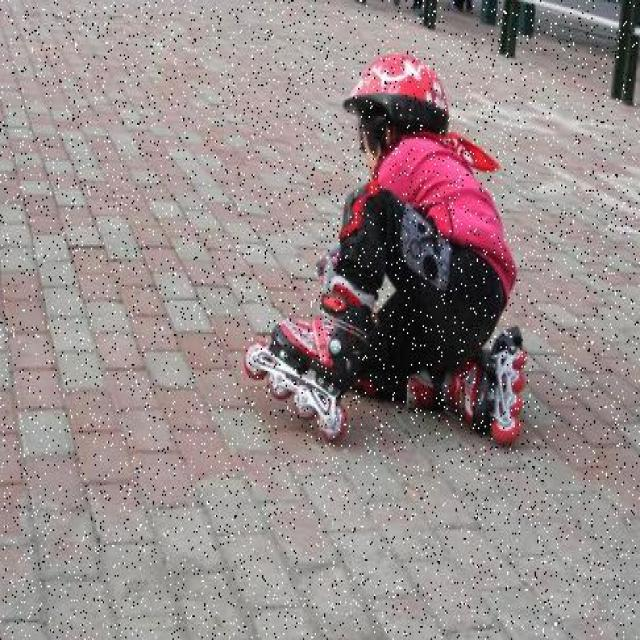fall: (270, 64, 532, 428)
